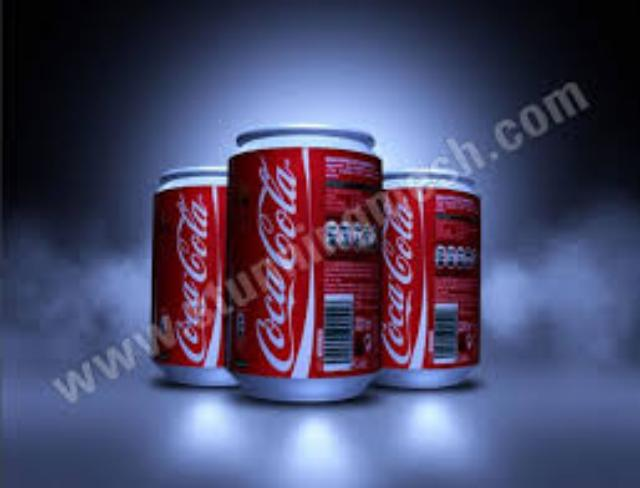metal: (227, 125, 376, 396), (379, 169, 478, 386), (152, 169, 234, 384)
